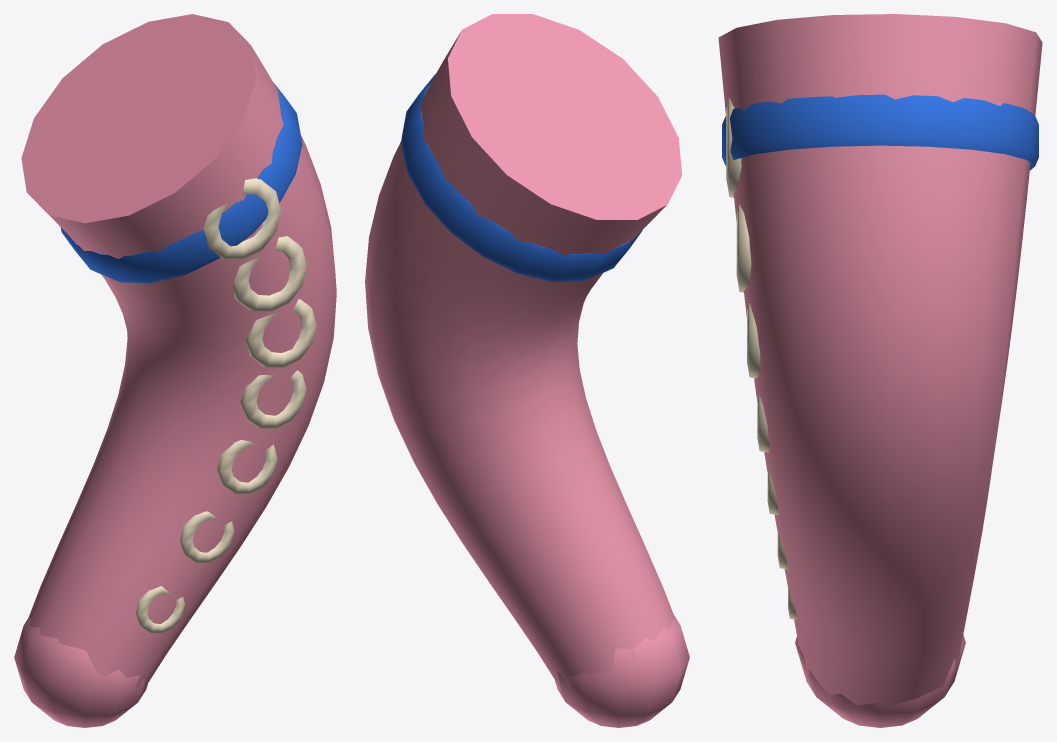
The model's file is Kit_Limb_Tentacle_S.glb.
The picture shows the model from 3 angles, left to right: view 1: azimuth 30°, elevation 25°; view 2: azimuth 150°, elevation 25°; view 3: azimuth 270°, elevation 25°; orthographic projection. The views are drawn at different scales.
Parts seen in each view (by area): view 1: Kit_Limb_Tentacle_S; view 2: Kit_Limb_Tentacle_S; view 3: Kit_Limb_Tentacle_S.
Boxes of the visible parts, x1,y1,x2,y2 form: Kit_Limb_Tentacle_S: [14, 14, 336, 727]; Kit_Limb_Tentacle_S: [365, 14, 689, 727]; Kit_Limb_Tentacle_S: [718, 14, 1042, 727].
Bounding box in the file's own units: 0.1636 × 0.3436 × 0.127.
